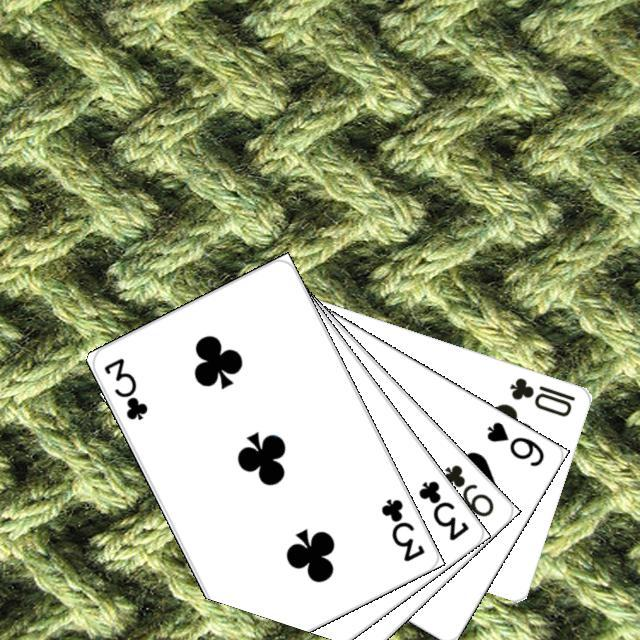10c: (504, 372, 577, 419)
3c: (413, 475, 471, 543), (98, 352, 150, 422), (376, 493, 427, 564)
6s: (481, 416, 546, 469)
9c: (437, 459, 496, 519)
